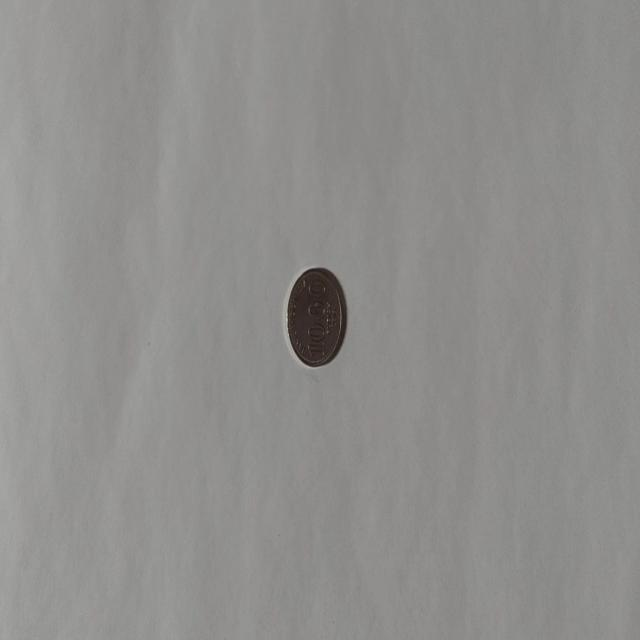seribu rupiah koin: (284, 265, 346, 368)
